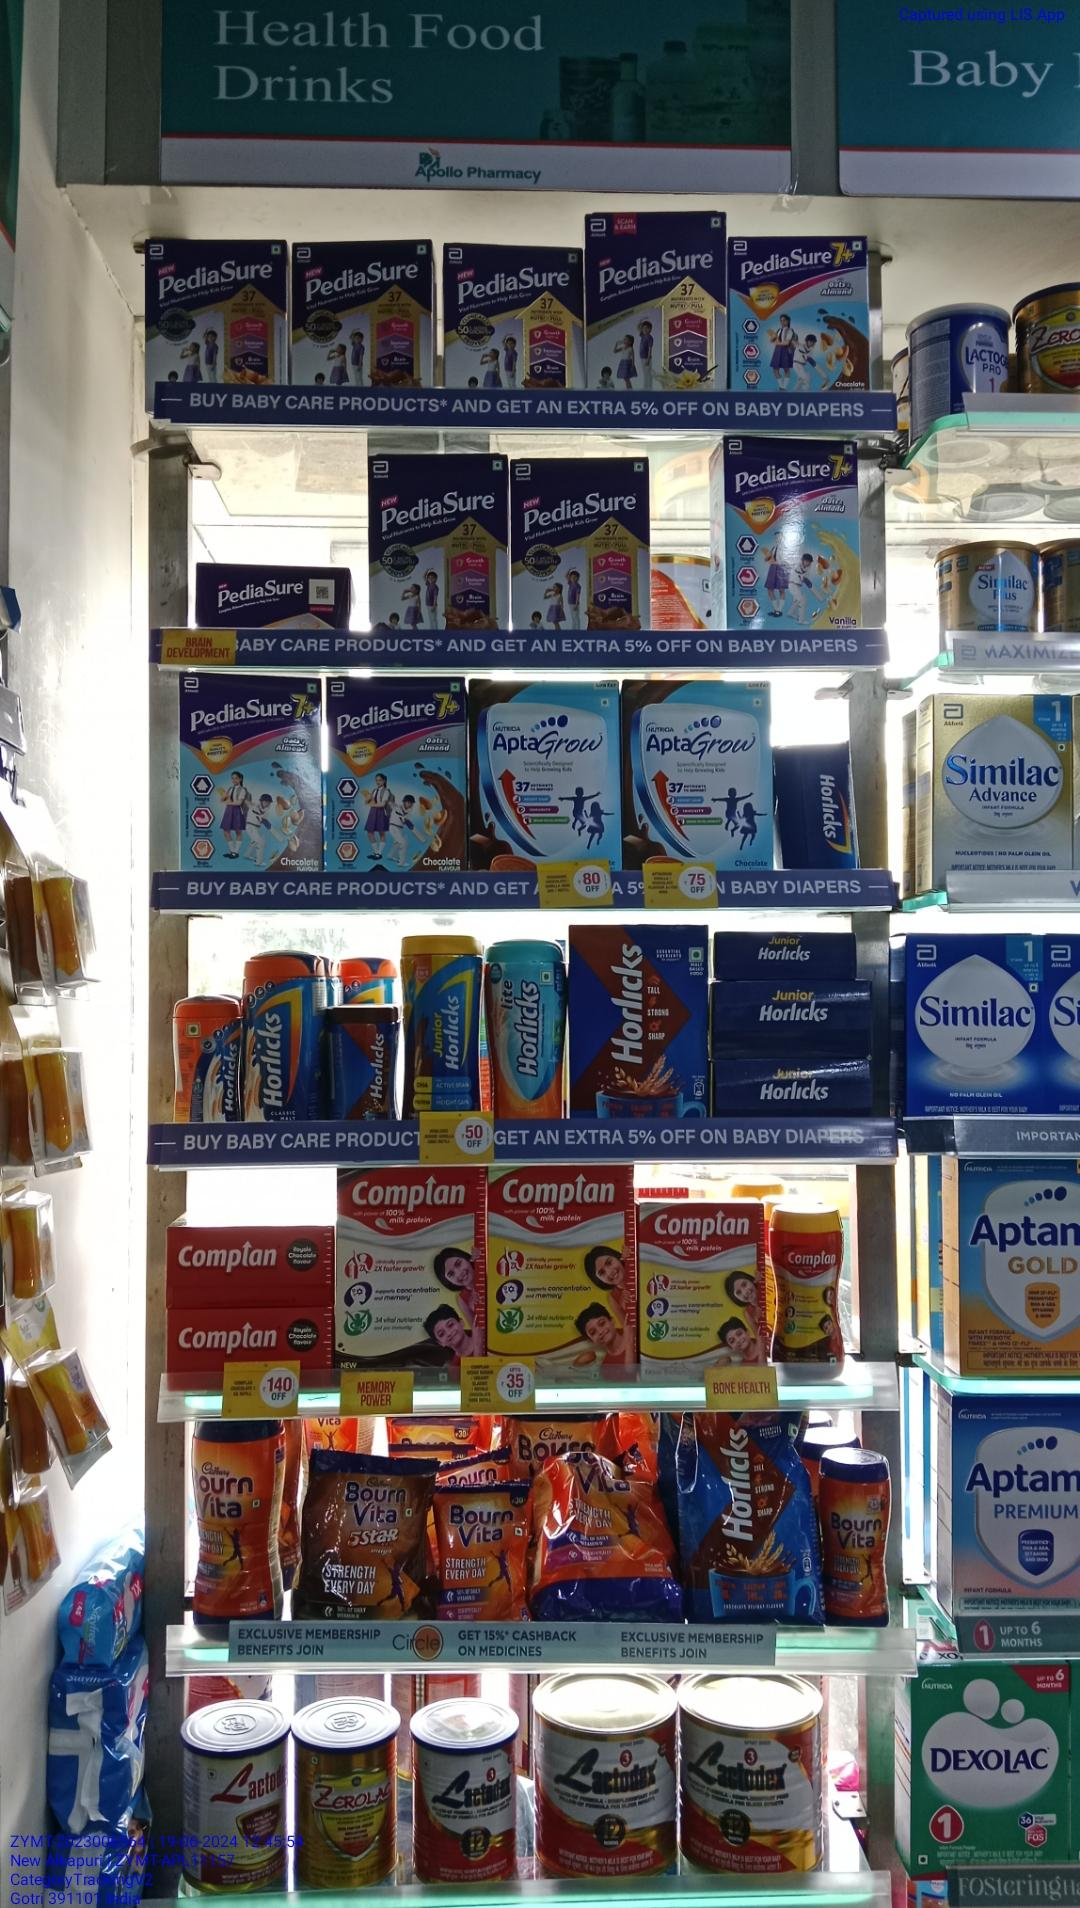COMPLAN_CHOCOLATE_200_GMS_JAR: (772, 1211, 843, 1375)
COMPLAN_KESAR_BADAM_200_GMS_PACK: (638, 1202, 767, 1367)
